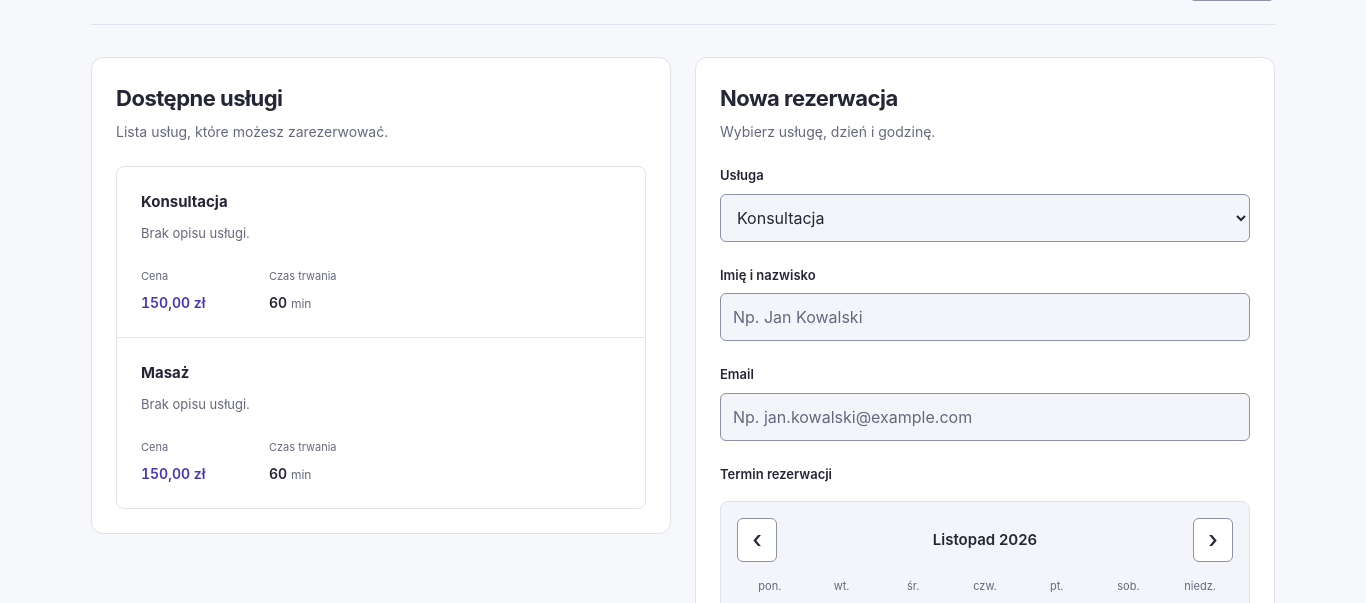
Scenario: availability request counts › fetches the next month once, reuses a recent previous month, and skips entirely past months
What coordinates should you click on to do the following:
click the button "›"
I would click on:
 (1213, 540)
Its box is [1193,518,1233,562].
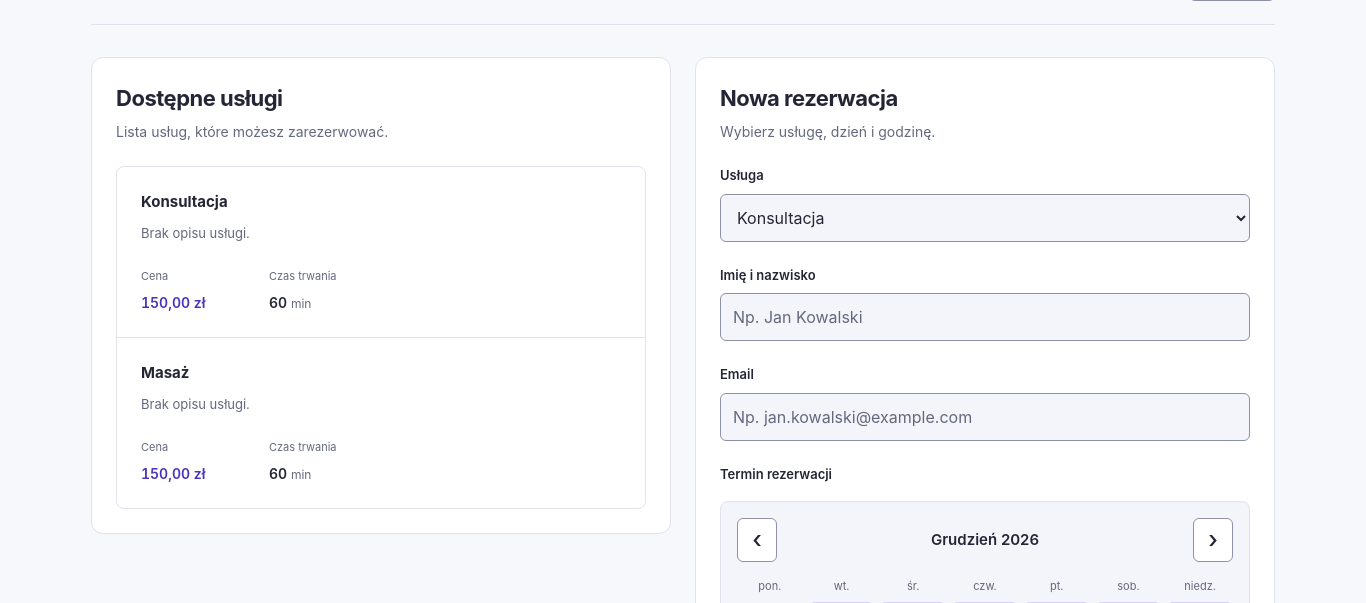
What coordinates should you click on to do the following:
click the button "‹"
I would click on:
 (757, 540)
Its box is [737,518,777,562].
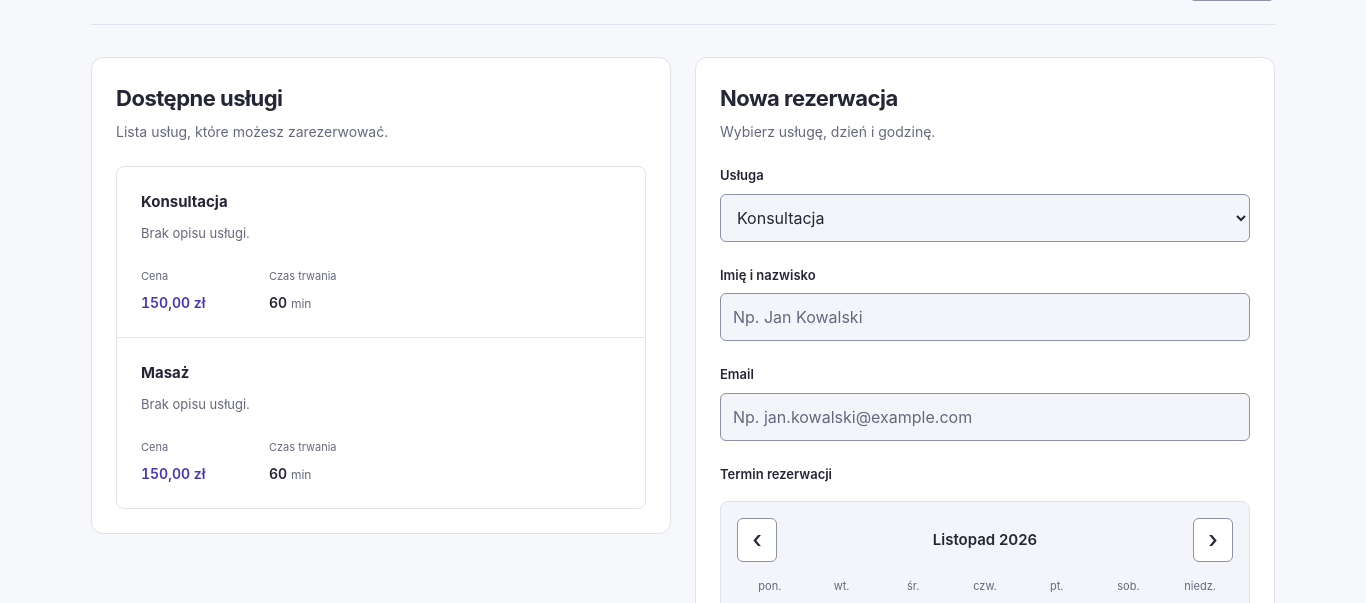
What coordinates should you click on to do the following:
click the button "‹"
I would click on:
 (757, 540)
Its box is [737,518,777,562].
(page scrolled)
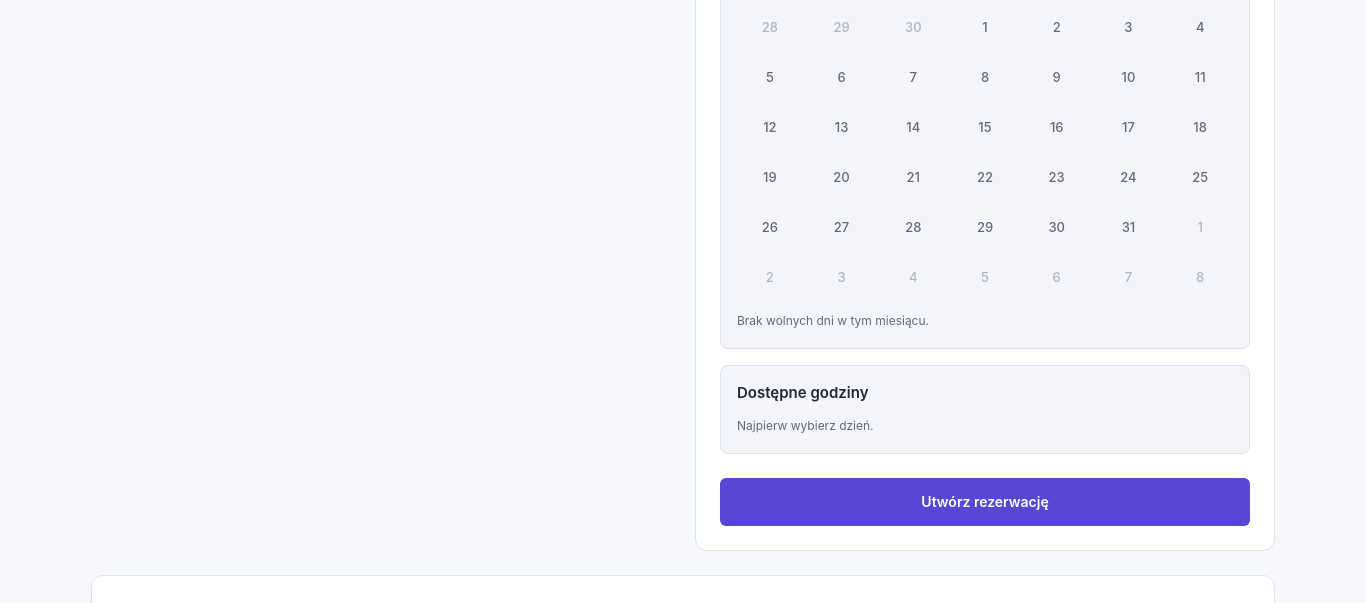
Result: the text "Brak wolnych dni w tym miesiącu." is shown at [737,313,929,328]
